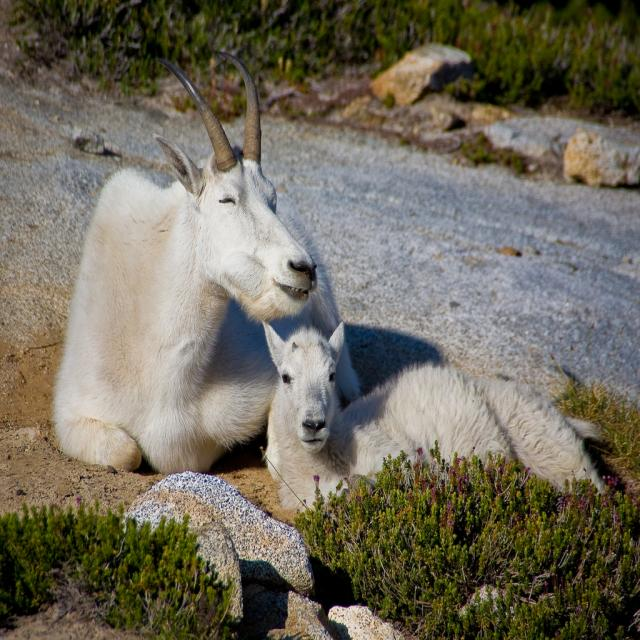Goat: (48, 64, 342, 468)
